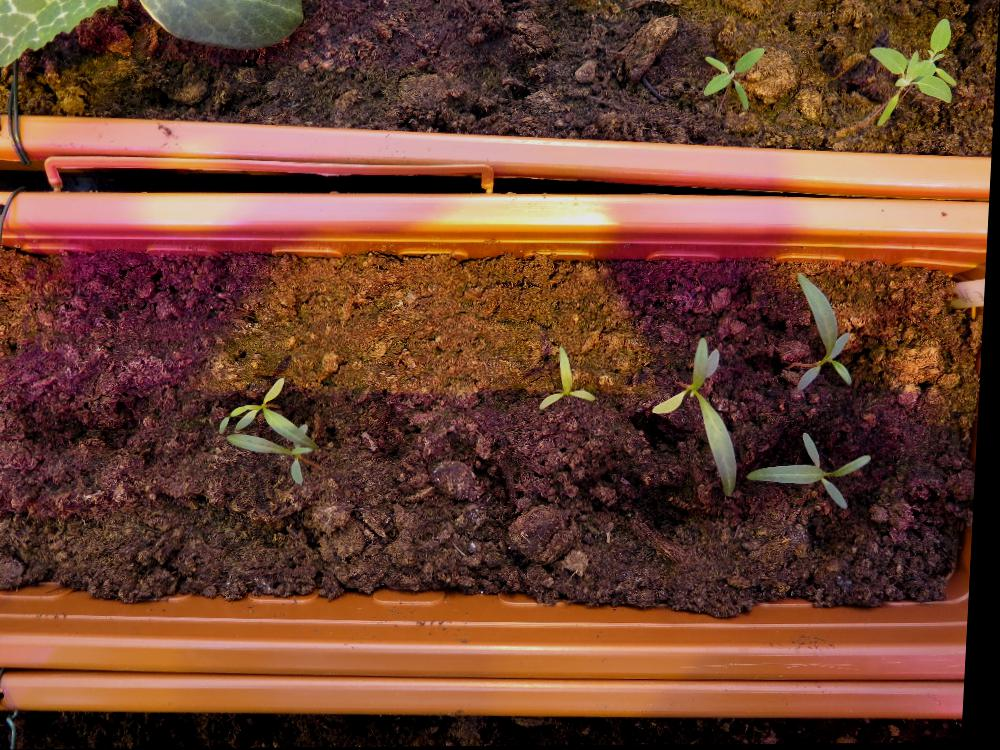weed: (648, 338, 747, 499), (748, 431, 879, 512), (793, 272, 860, 394), (701, 45, 765, 110), (541, 344, 603, 411)
